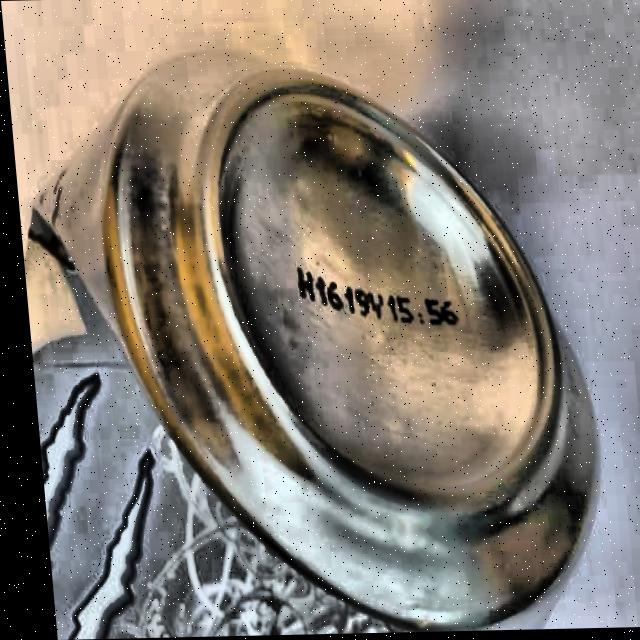metal: (5, 41, 615, 640)
